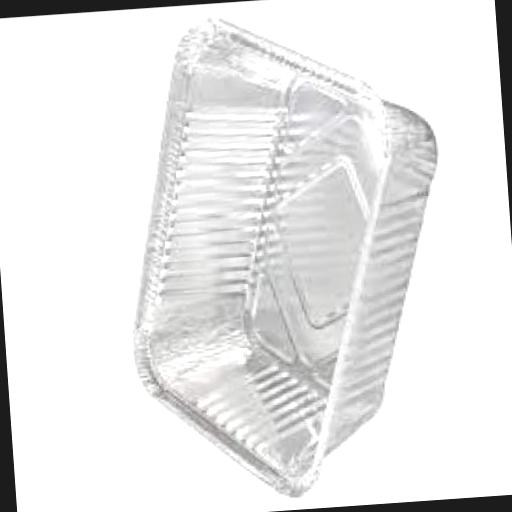metal: (106, 4, 460, 510)
